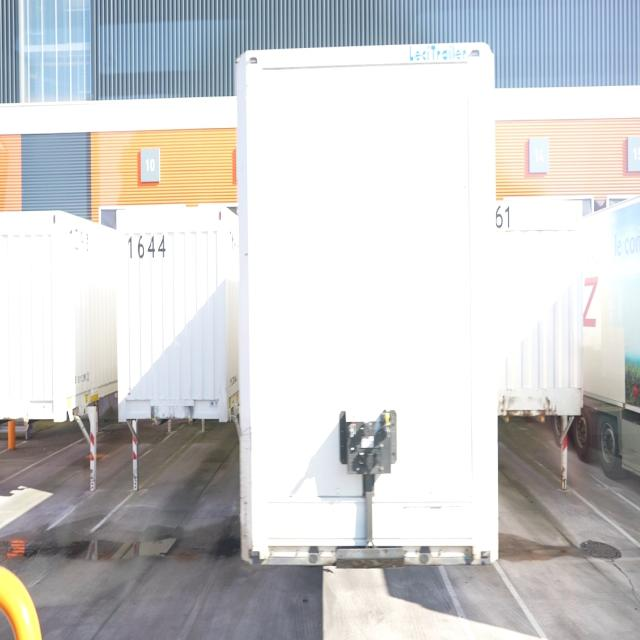Code: (125, 228, 168, 264)
